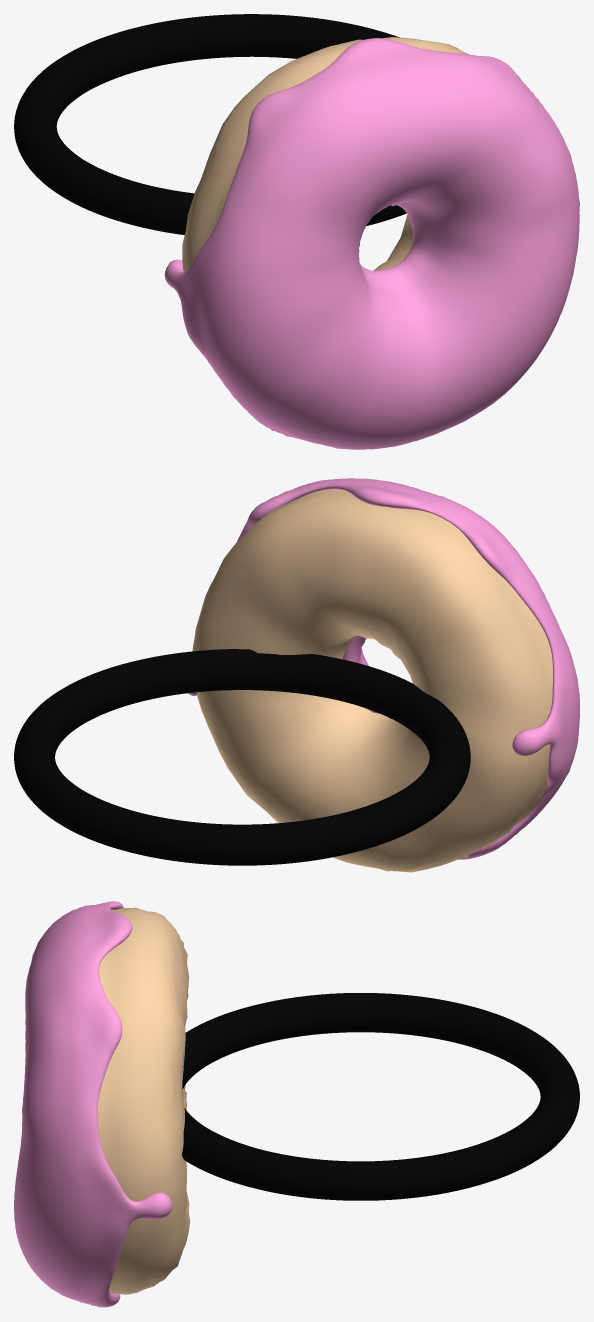
Rendered from 5donut.glb.
3 renders of one model, top to bottom at view 1: azimuth 30°, elevation 25°; view 2: azimuth 150°, elevation 25°; view 3: azimuth 270°, elevation 25°, orthographic. The views are drawn at different scales.
Visible parts, largest first — view 1: donut; view 2: donut; view 3: donut.
Part boxes in pixels (<box>): donut: <box>14,14,579,449</box>; donut: <box>14,478,579,872</box>; donut: <box>14,901,579,1307</box>.
Bounding box in the file's own units: 42.68 × 38.61 × 55.12.
